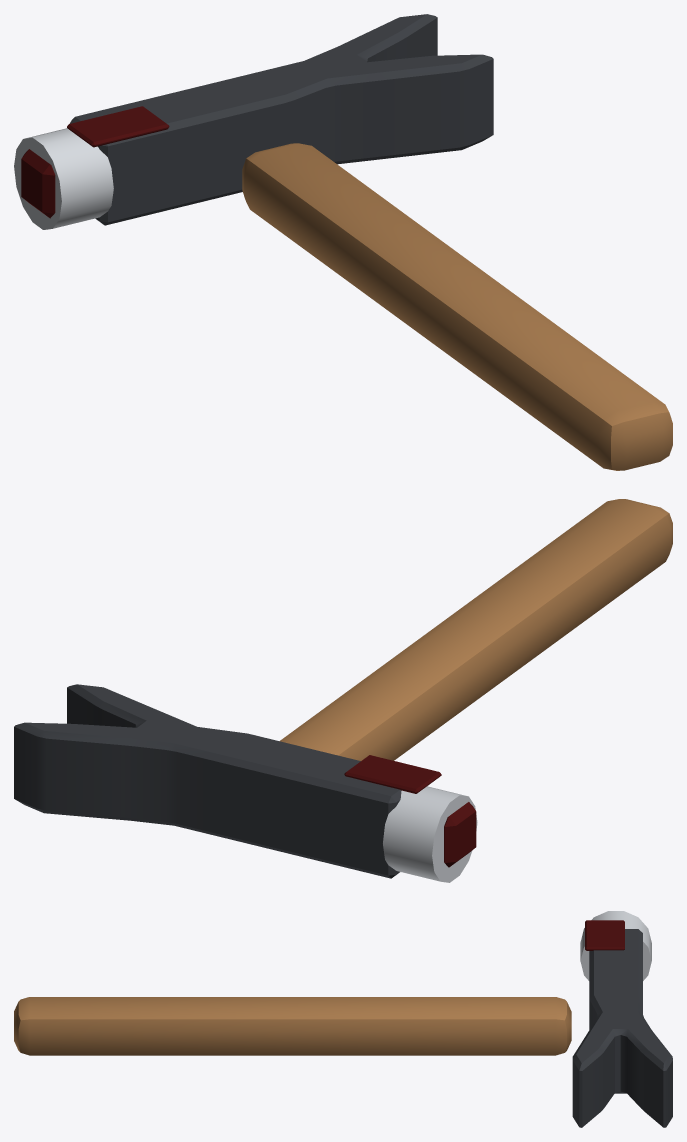
File: hammer.glb
3 views of the same model, one above another, from view 1: azimuth 30°, elevation 25°; view 2: azimuth 150°, elevation 25°; view 3: azimuth 270°, elevation 25° (orthographic). The views are drawn at different scales.
Visible parts, largest first — view 1: hammer; view 2: hammer; view 3: hammer.
Part boxes in pixels (box(x1,y1,x2,y2)): hammer: box(14, 14, 672, 470); hammer: box(14, 499, 672, 882); hammer: box(14, 911, 672, 1127).
Bounding box in the file's own units: 0.13 × 0.0257 × 0.2263.
